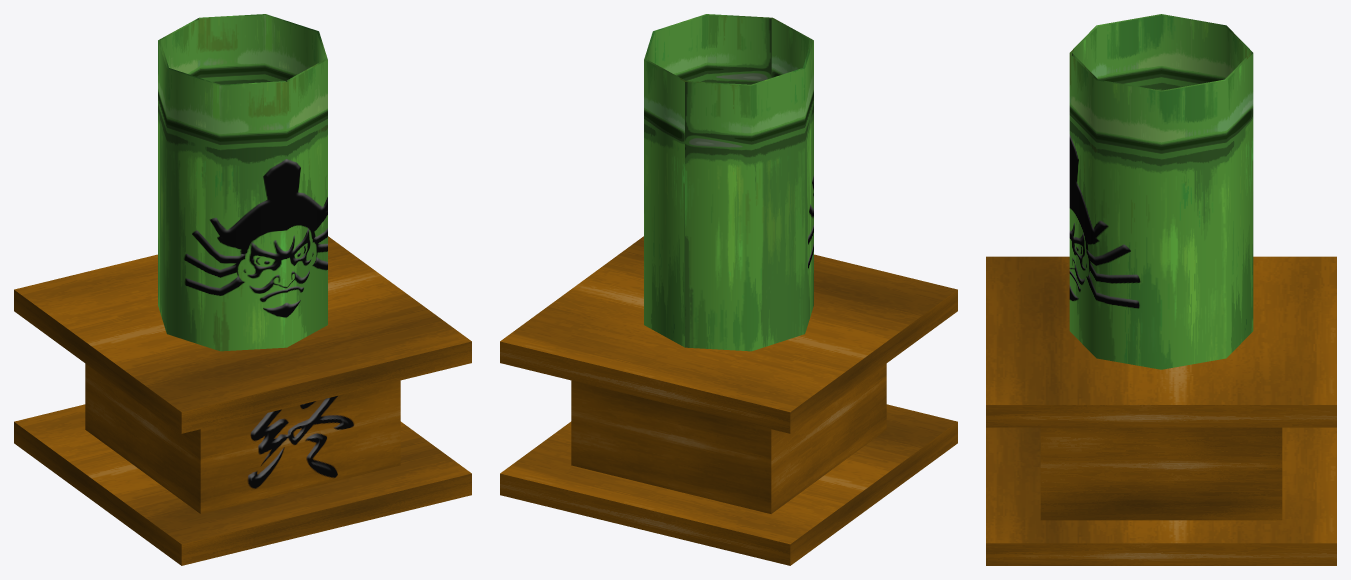
File: Hanabi_Tutu.fbx
3 views of the same model, side by side, from view 1: azimuth 30°, elevation 25°; view 2: azimuth 150°, elevation 25°; view 3: azimuth 270°, elevation 25° (orthographic). The views are drawn at different scales.
Visible parts, largest first — view 1: cylinder, cube, cube7, cube6, cylinder3; view 2: cylinder, cube, cube7, cube6, cylinder3; view 3: cylinder, cube, cube7, cube6, cylinder3.
Part boxes in pixels (box(x1,y1,x2,y2)): cylinder: box(158, 14, 327, 351); cube: box(14, 236, 471, 433); cube7: box(14, 404, 471, 565); cube6: box(85, 363, 400, 513); cylinder3: box(160, 15, 325, 85); cylinder: box(644, 14, 813, 351); cube: box(500, 236, 957, 433); cube7: box(500, 404, 957, 565); cube6: box(571, 363, 886, 513); cylinder3: box(646, 15, 811, 85); cylinder: box(1069, 14, 1253, 369); cube: box(986, 256, 1336, 427); cube7: box(986, 427, 1336, 565); cube6: box(1040, 427, 1282, 520); cylinder3: box(1072, 15, 1250, 91).
Bounding box in the file's own units: 77.47 × 107 × 77.47.
